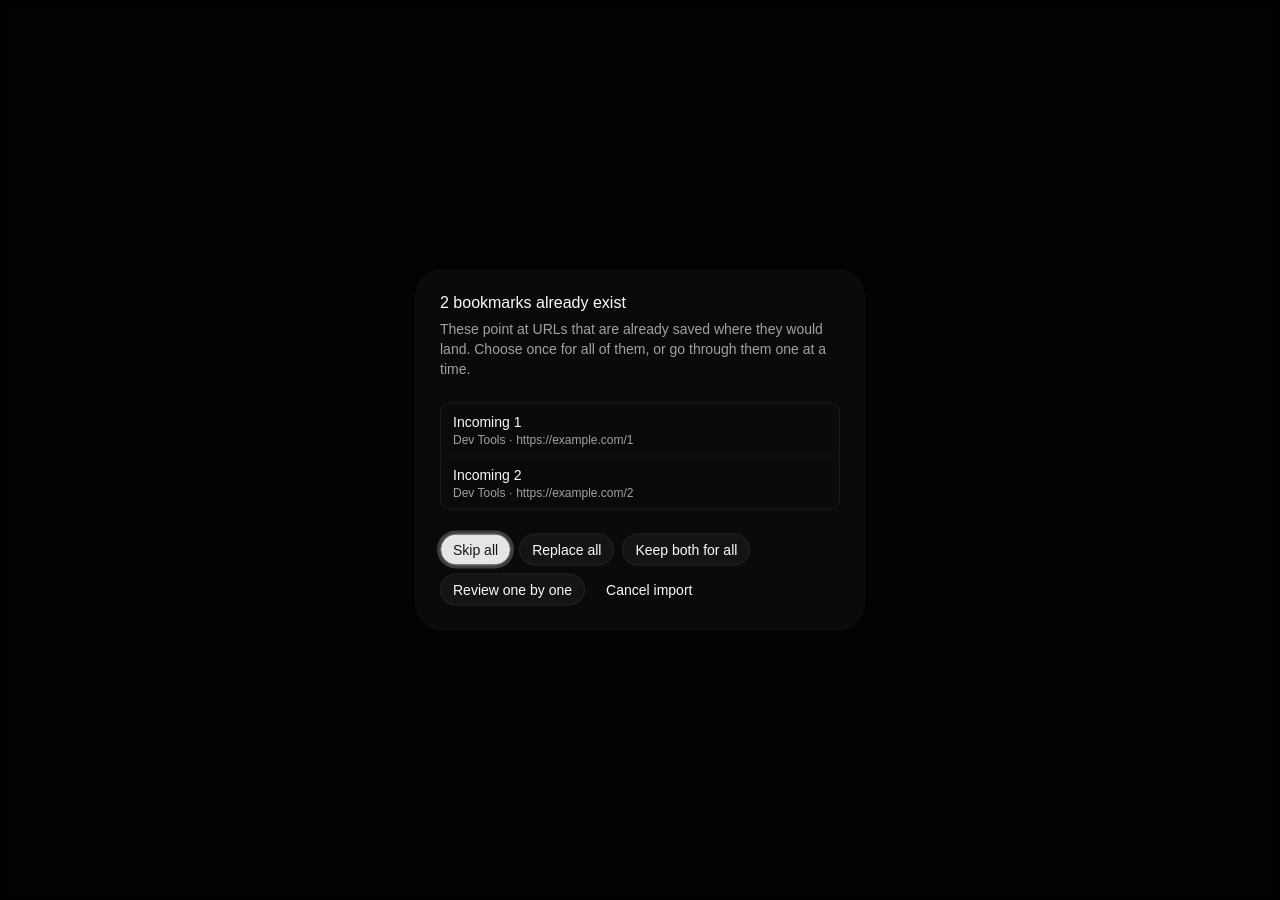
it: ImportConflictDialog review › hides the apply-to-the-rest option on the last conflict
Click the button "Review one by one": (513, 590) [440,574,585,606]
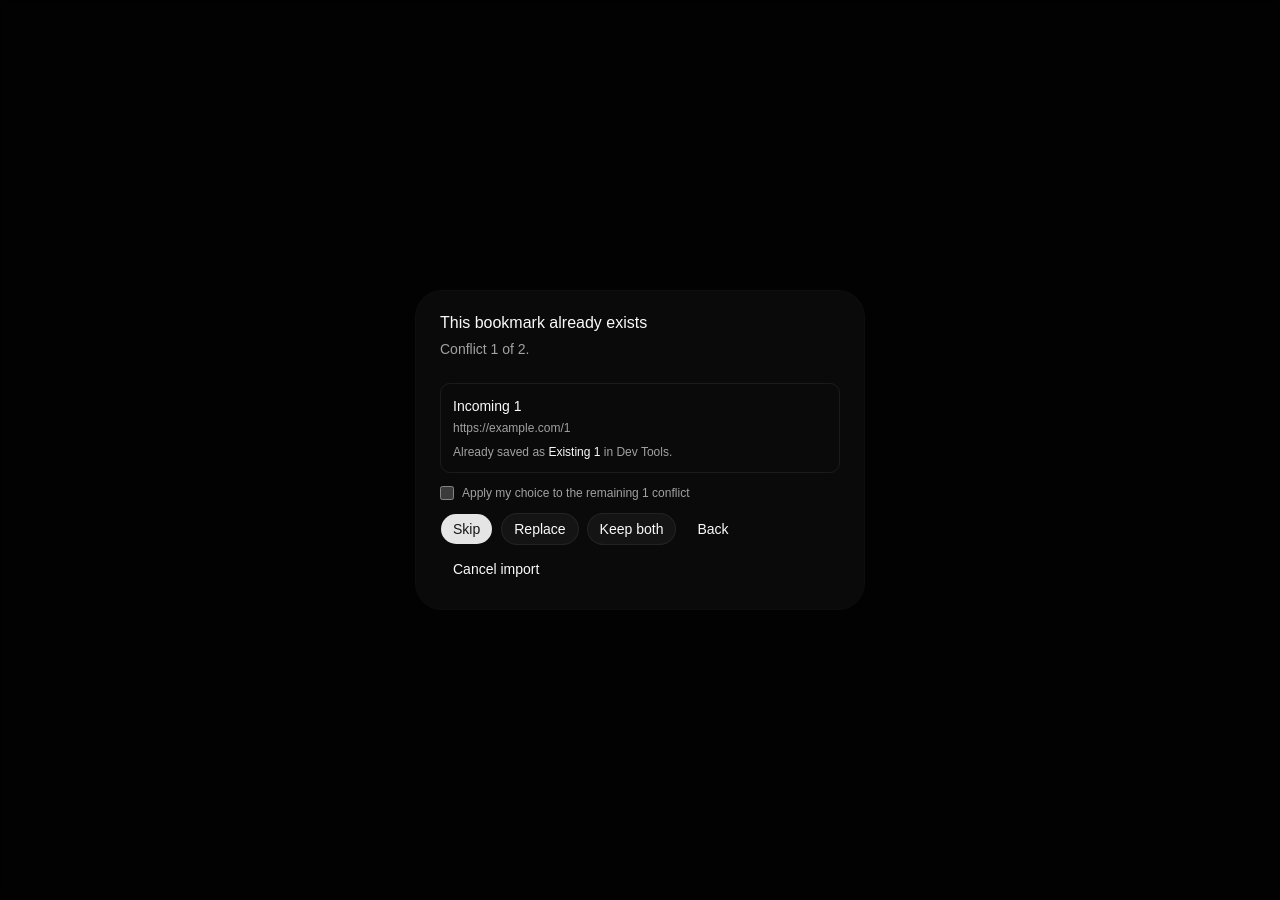
Expected: the checkbox is shown, [440,486,454,500]
Click the button "Skip": (467, 529) [440,513,493,545]
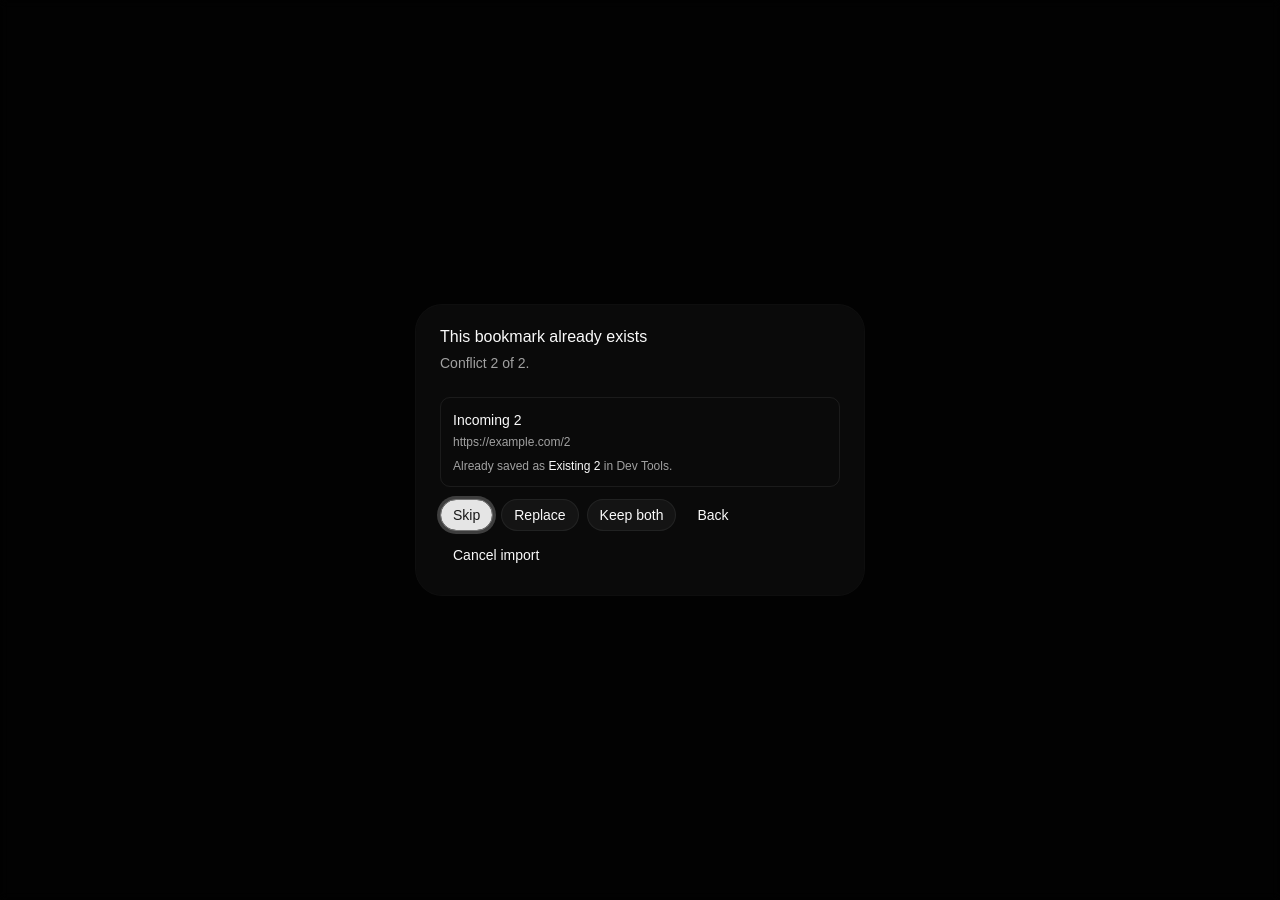
Expected: the checkbox is gone
